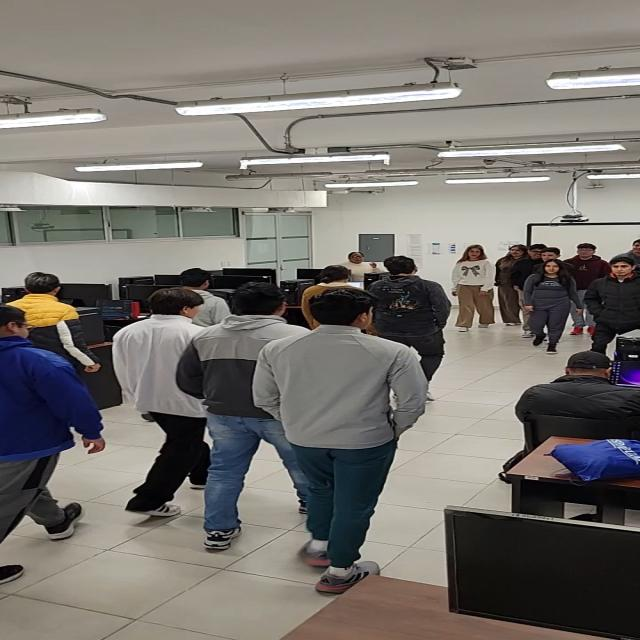Persona: (249, 287, 432, 594), (173, 282, 329, 548), (0, 301, 110, 590), (0, 303, 108, 588), (111, 287, 220, 516), (368, 256, 452, 405), (7, 271, 103, 377), (520, 259, 584, 354), (583, 255, 640, 351), (300, 266, 373, 333), (449, 244, 497, 334), (568, 240, 610, 338), (498, 245, 530, 325), (539, 247, 573, 284), (614, 240, 640, 264), (524, 242, 545, 262)
